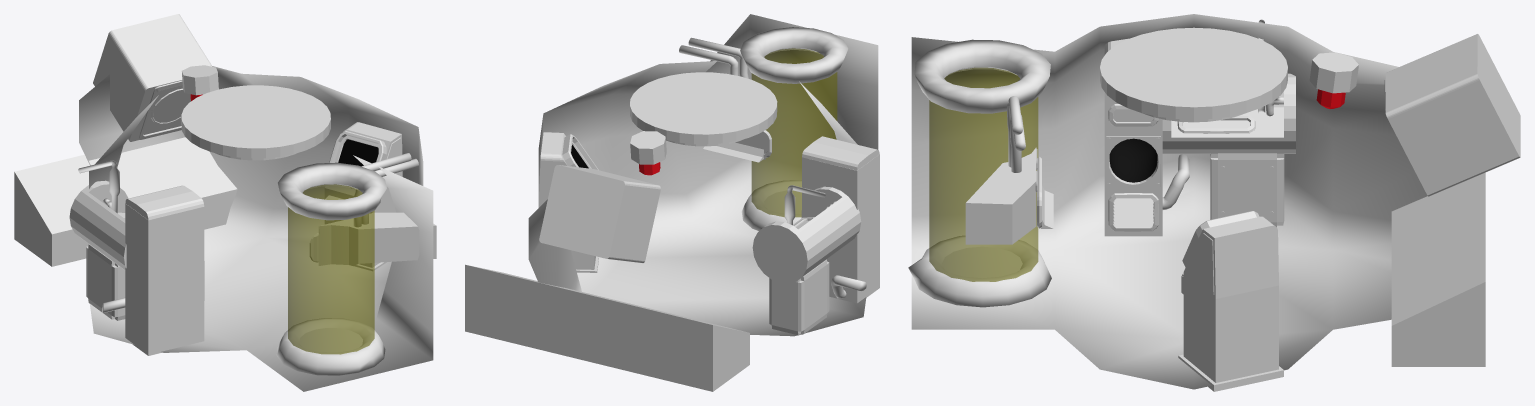
File: submarine.glb
3 views of the same model, side by side, from view 1: azimuth 30°, elevation 25°; view 2: azimuth 150°, elevation 25°; view 3: azimuth 270°, elevation 25° (orthographic). The views are drawn at different scales.
Visible parts, largest first — view 1: Hull, Reactor, CoolingAndLifeSupport, Sonar, PCUnit, Light; view 2: Hull, CoolingAndLifeSupport, Reactor, Sonar, PCUnit, Light; view 3: Hull, Reactor, CoolingAndLifeSupport, PCUnit, Sonar, Light.
Boxes of the visible parts, bbox=[...] form: Hull: bbox=[14, 66, 433, 391]; Reactor: bbox=[276, 153, 436, 375]; CoolingAndLifeSupport: bbox=[69, 160, 204, 355]; Sonar: bbox=[93, 14, 212, 141]; PCUnit: bbox=[325, 122, 402, 270]; Light: bbox=[182, 65, 218, 101]; Hull: bbox=[465, 14, 878, 391]; CoolingAndLifeSupport: bbox=[752, 136, 879, 335]; Reactor: bbox=[679, 27, 848, 230]; Sonar: bbox=[539, 165, 660, 263]; PCUnit: bbox=[539, 132, 598, 272]; Light: bbox=[630, 131, 666, 175]; Hull: bbox=[911, 14, 1485, 389]; Reactor: bbox=[908, 39, 1053, 307]; CoolingAndLifeSupport: bbox=[1104, 19, 1295, 236]; PCUnit: bbox=[1178, 211, 1283, 391]; Sonar: bbox=[1384, 34, 1520, 196]; Light: bbox=[1309, 52, 1358, 108].
Size of the model in its own units: 5.01 by 2.84 by 6.51.
